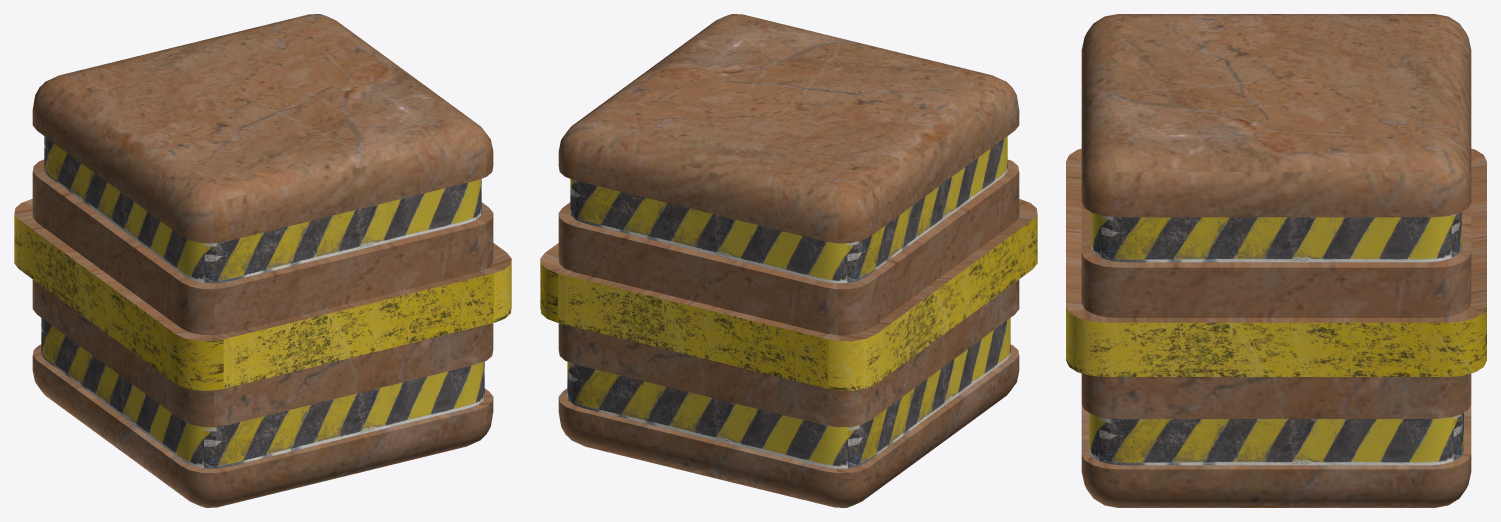
File: crate 2.obj
3 views of the same model, side by side, from view 1: azimuth 30°, elevation 25°; view 2: azimuth 150°, elevation 25°; view 3: azimuth 270°, elevation 25° (orthographic). The views are drawn at different scales.
Visible parts, largest first — view 1: Crate2 Form3, Crate2 Form8, Crate2 Form7, Crate2 Form6; view 2: Crate2 Form3, Crate2 Form8, Crate2 Form7, Crate2 Form6; view 3: Crate2 Form3, Crate2 Form8, Crate2 Form7, Crate2 Form6.
Part boxes in pixels (left/top/right/bottom): Crate2 Form3: left=14, top=14, right=511, bottom=507; Crate2 Form8: left=14, top=214, right=511, bottom=390; Crate2 Form7: left=41, top=318, right=484, bottom=468; Crate2 Form6: left=44, top=136, right=481, bottom=283; Crate2 Form3: left=540, top=14, right=1037, bottom=507; Crate2 Form8: left=540, top=214, right=1037, bottom=390; Crate2 Form7: left=567, top=318, right=1010, bottom=468; Crate2 Form6: left=570, top=136, right=1007, bottom=283; Crate2 Form3: left=1066, top=14, right=1486, bottom=507; Crate2 Form8: left=1066, top=306, right=1486, bottom=376; Crate2 Form7: left=1089, top=412, right=1463, bottom=465; Crate2 Form6: left=1091, top=212, right=1461, bottom=262.
Bounding box in the file's own units: 6.48 × 6 × 6.48.
